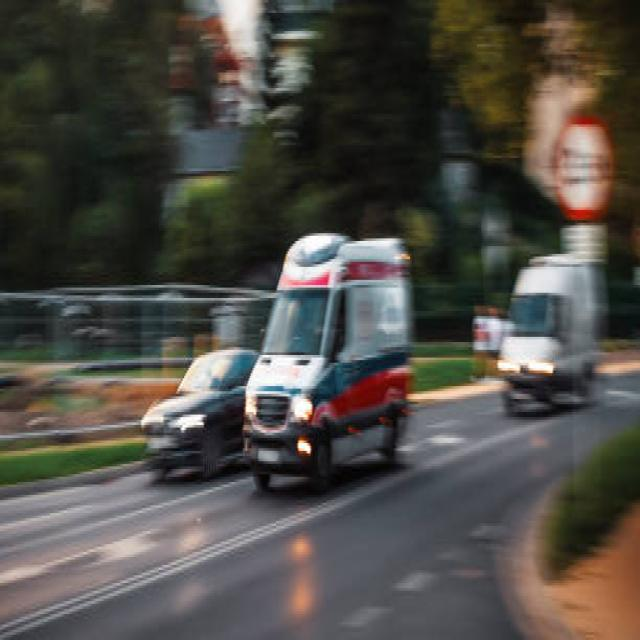emergency: (245, 235, 411, 488)
